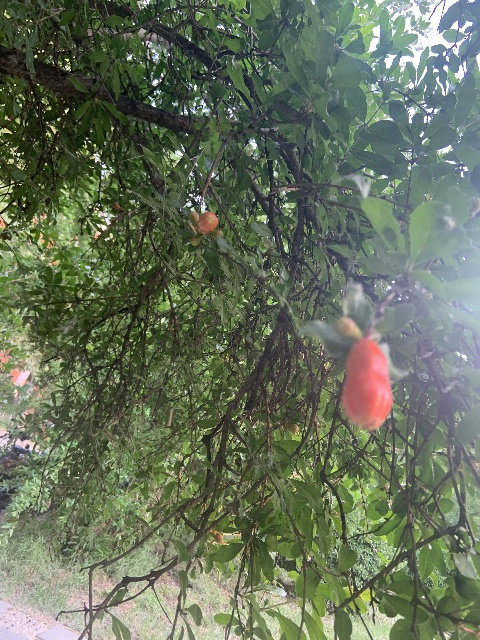bud: (341, 337, 392, 429), (197, 211, 218, 233)
